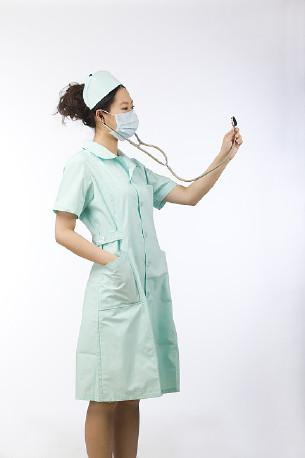OK: (98, 97, 144, 143)
